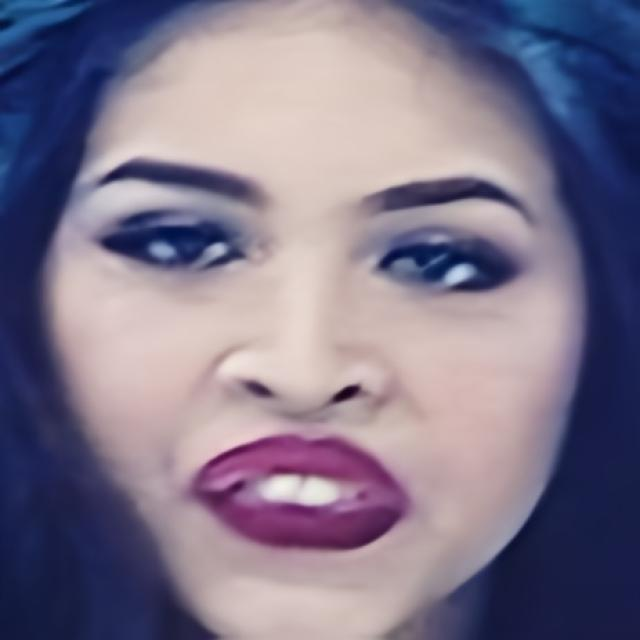disgust: (38, 0, 587, 640)
